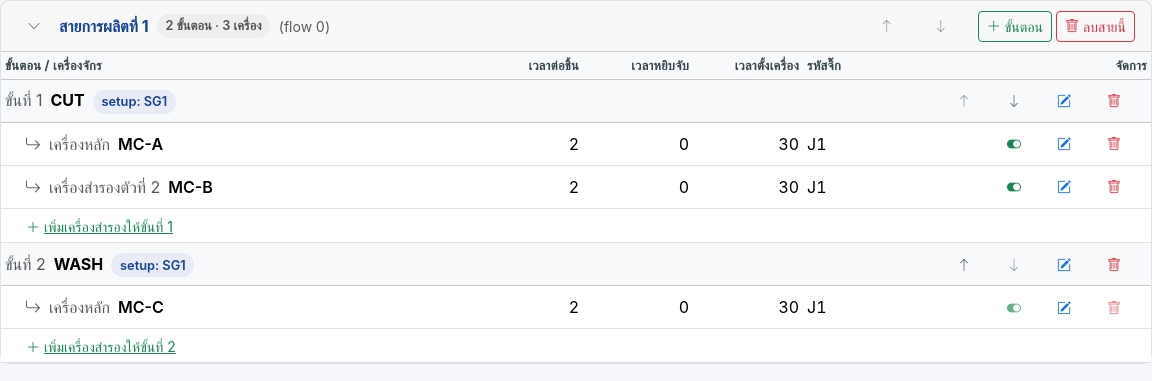
Scenario: ย่อ Flow แล้วตารางหายไป กดอีกทีกลับมา
Expected: the text "CUT" is shown, [50,90,85,110]
Step 1. Click the button named "ย่อสายการผลิตที่ 1" → [34, 26], box [17,9,51,43]
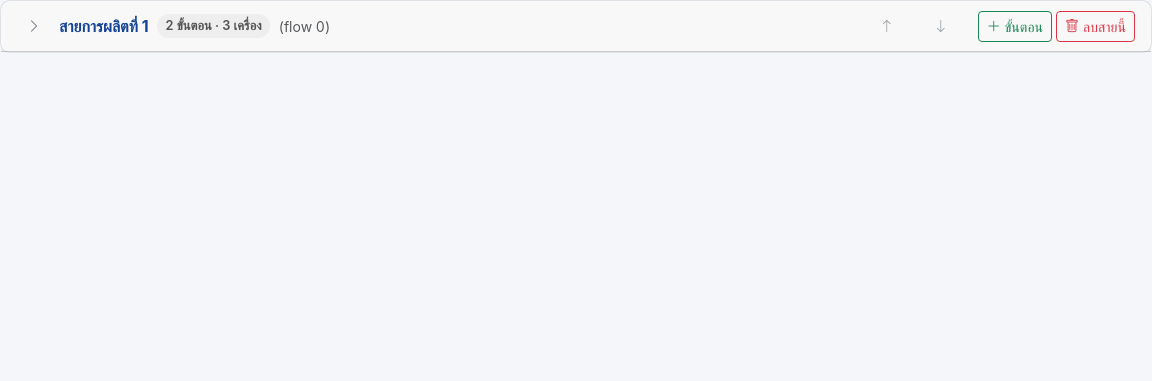
Expected: the text "CUT" is gone
Step 2. Click the button named "ขยายสายการผลิตที่ 1" → [34, 26], box [17,9,51,43]
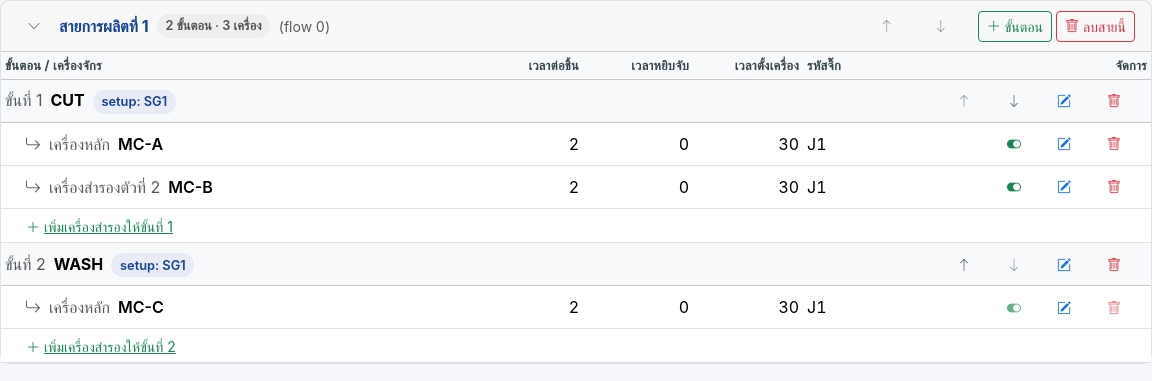
Expected: the text "CUT" is shown, [50,90,85,110]
